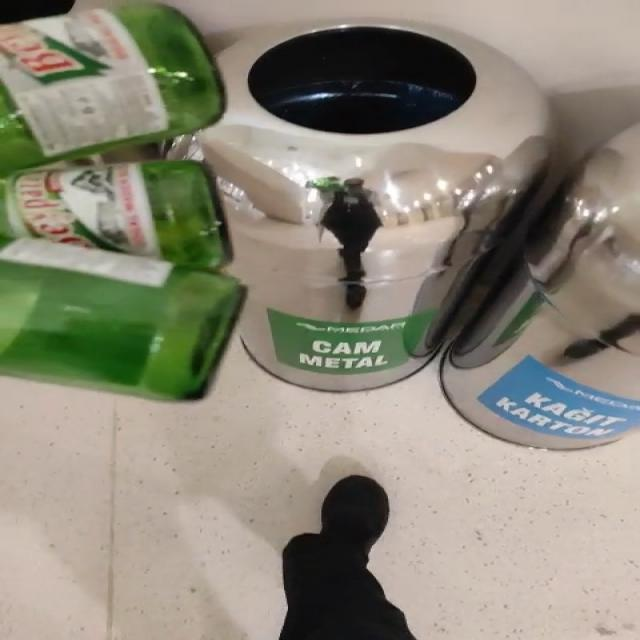Other: (0, 446, 317, 470)
